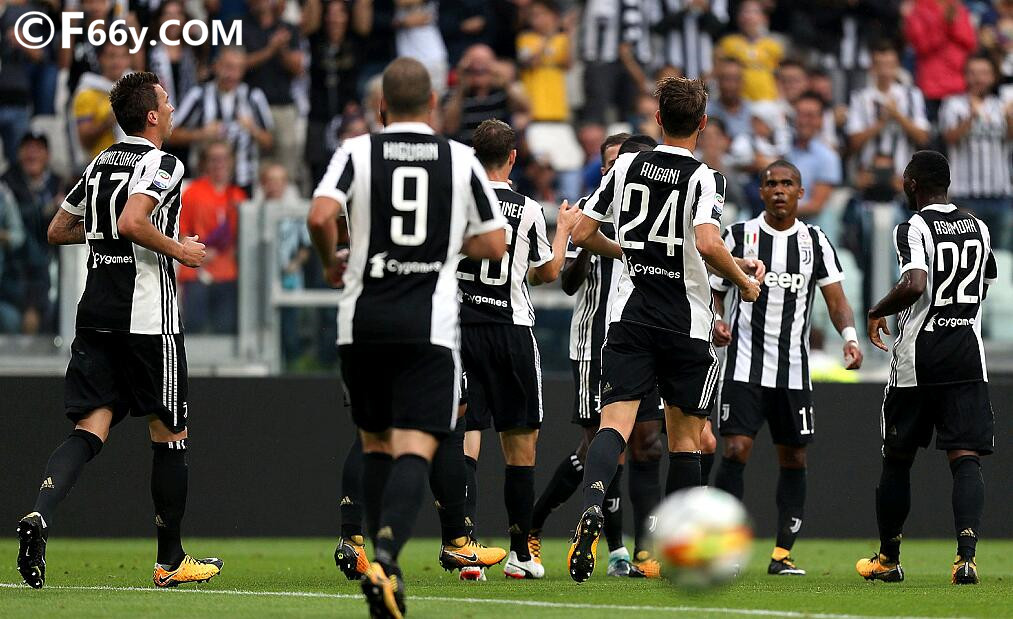ball: (651, 485, 755, 594)
